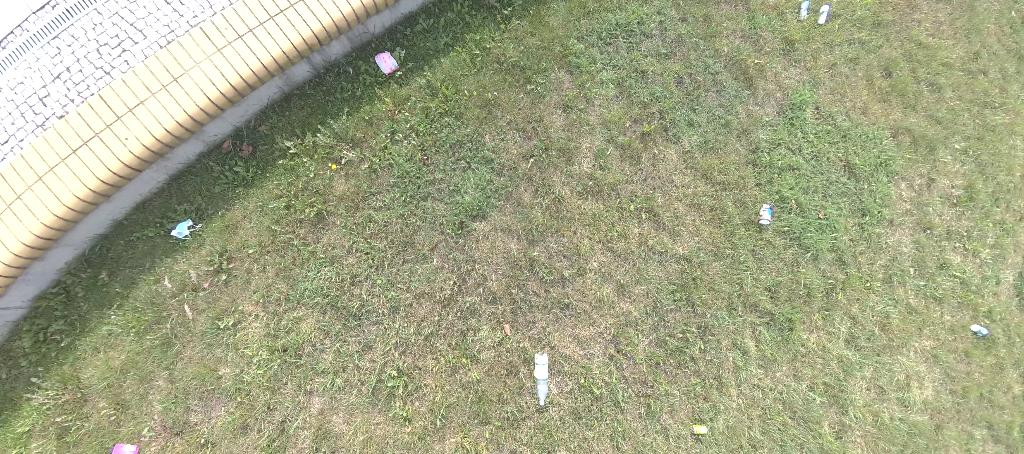garbage: (533, 351, 552, 409), (375, 51, 402, 75), (757, 205, 772, 230), (815, 7, 830, 28), (799, 0, 812, 23)
